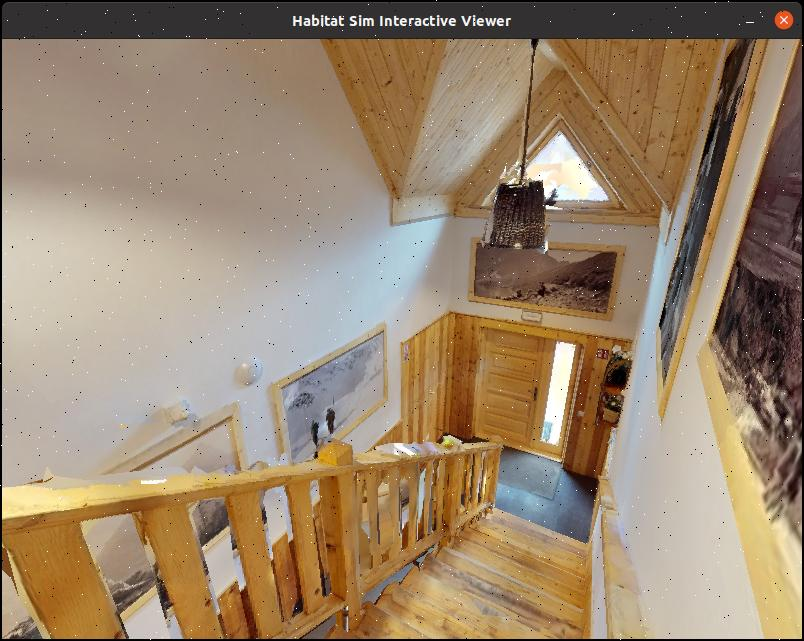stairs: (17, 435, 644, 641)
